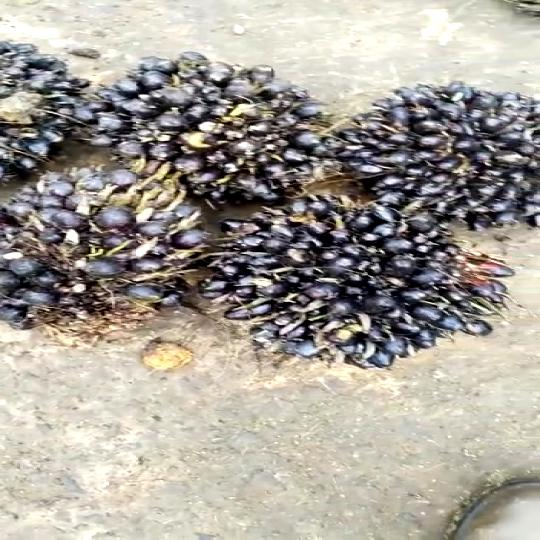mentah: (207, 204, 504, 356), (87, 44, 344, 208), (324, 66, 540, 229), (0, 175, 202, 334)
